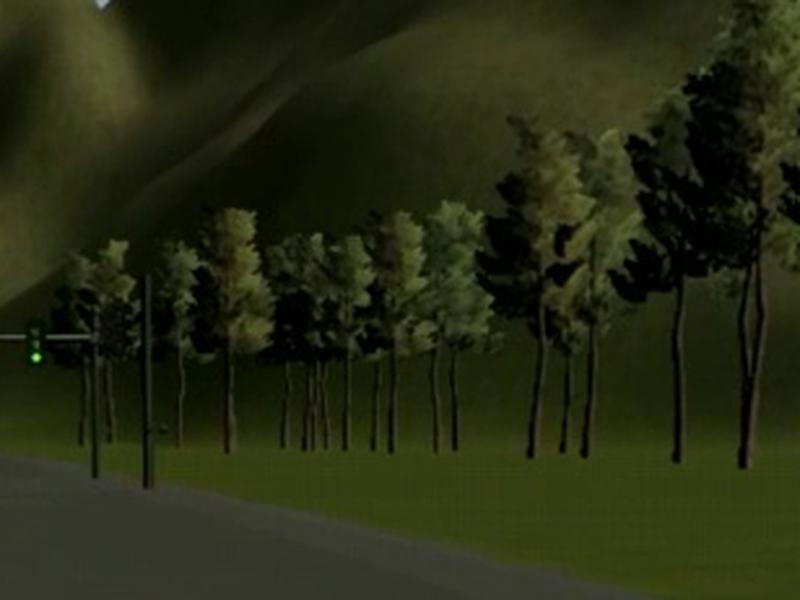Green: (25, 321, 46, 367)
